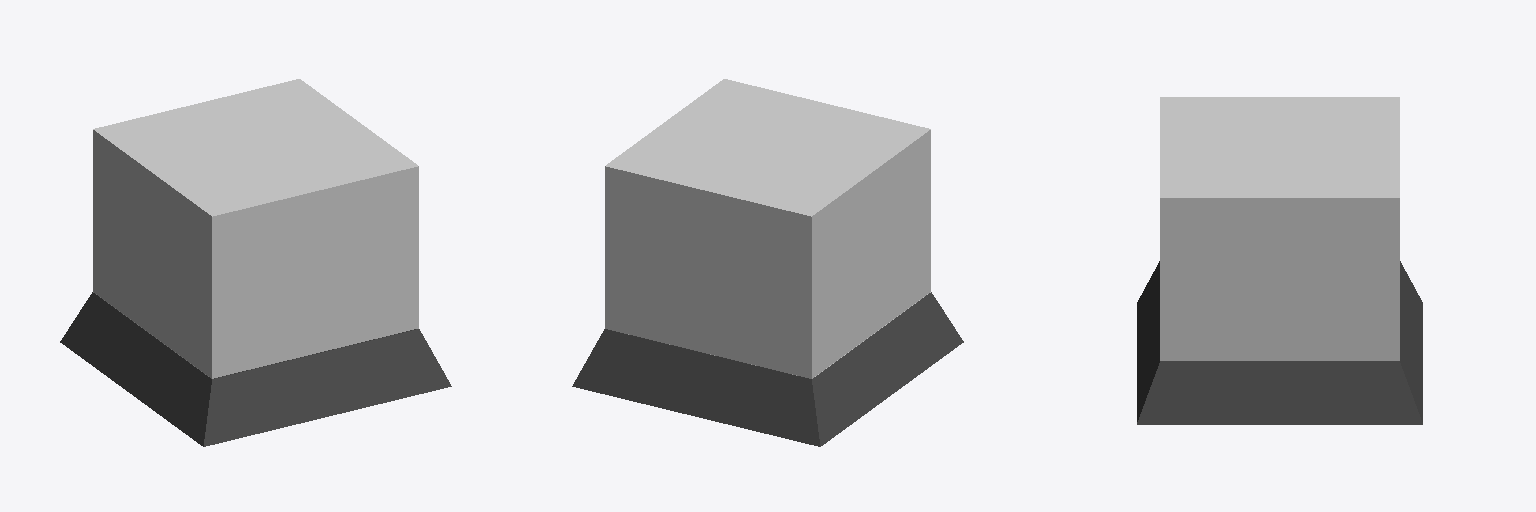
The picture shows the model from 3 angles: view 1: azimuth 30°, elevation 25°; view 2: azimuth 150°, elevation 25°; view 3: azimuth 270°, elevation 25°; orthographic projection.
Parts seen in each view (by area): view 1: Cube; view 2: Cube; view 3: Cube.
Boxes of the visible parts, box(x1,y1,x2,y2) form: Cube: box(60, 79, 451, 446); Cube: box(572, 79, 963, 446); Cube: box(1137, 97, 1422, 424).
Size of the model in its own units: 2.4 by 2 by 2.4.
1 materials, 1 textured.